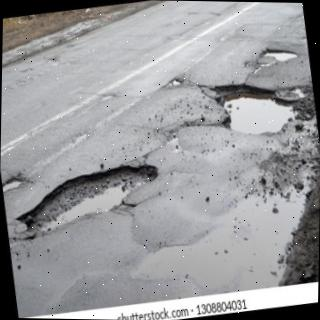pothole: (15, 164, 158, 239), (214, 84, 300, 134), (259, 48, 298, 62), (170, 77, 182, 86)
